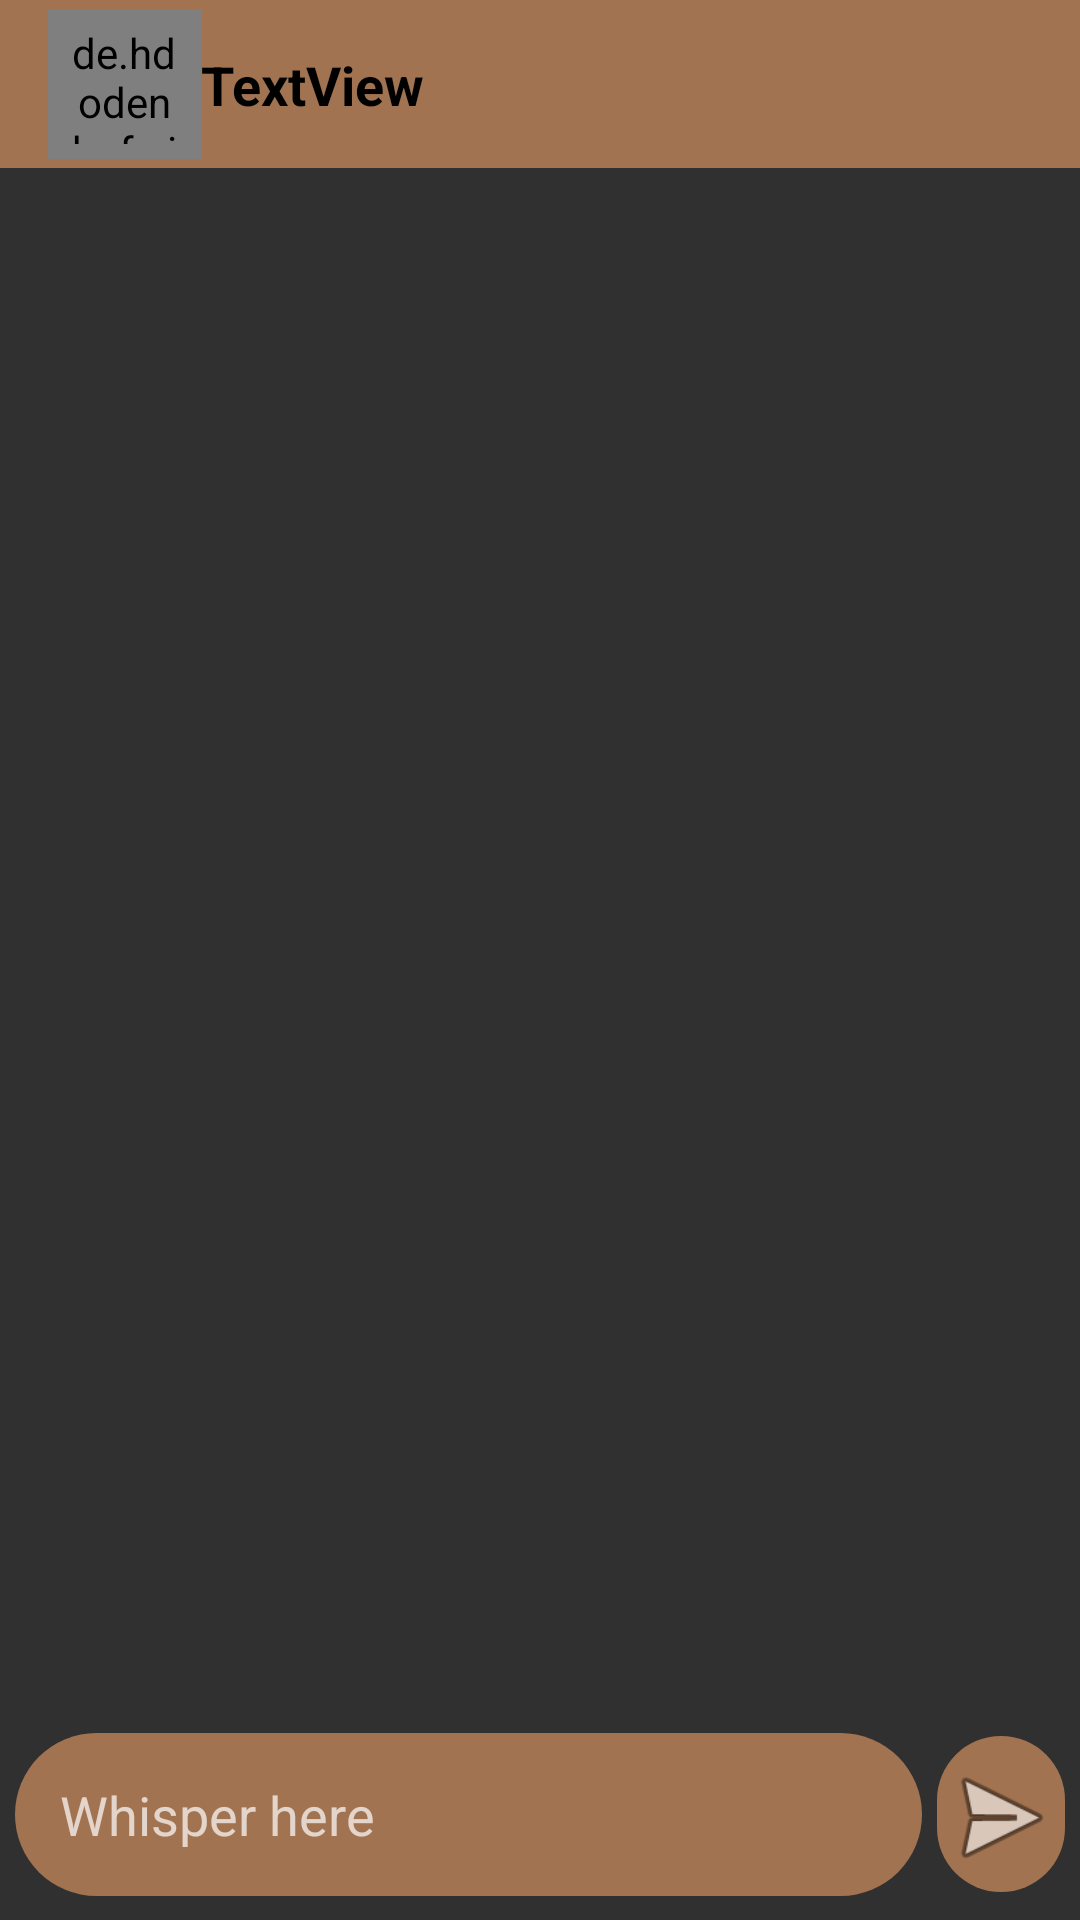

Icon bounding boxes for this 1080x1920 phone screenshot, format BBox(x1, y1, x2, y2):
send: BBox(937, 1736, 1065, 1892)
